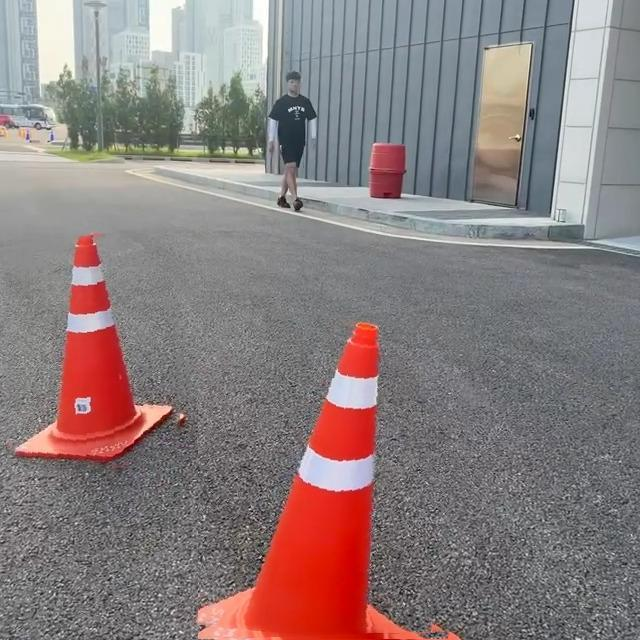fallen_object: (194, 314, 444, 640), (23, 212, 198, 478)
